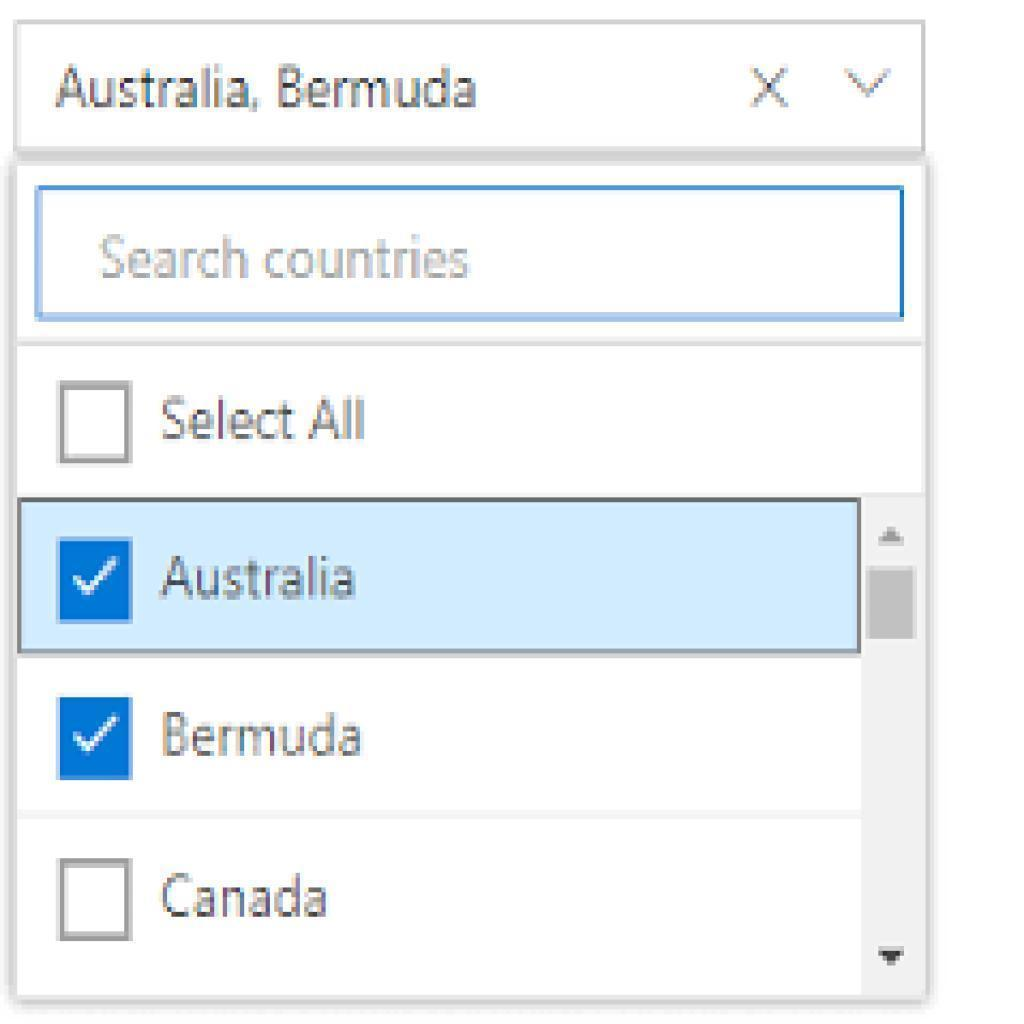checkbox: (59, 699, 132, 781), (59, 540, 134, 618), (57, 382, 130, 461), (61, 861, 128, 942)
dropdown: (13, 24, 927, 160)
input: (36, 188, 900, 316)
